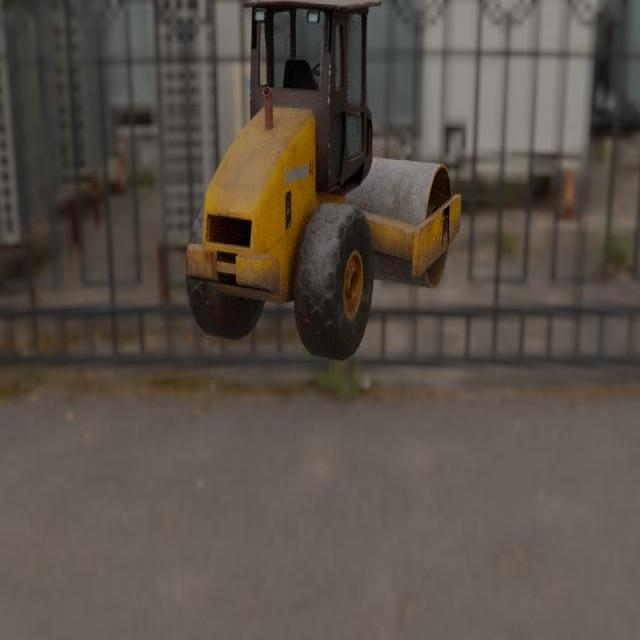Roller: (185, 0, 461, 363)
